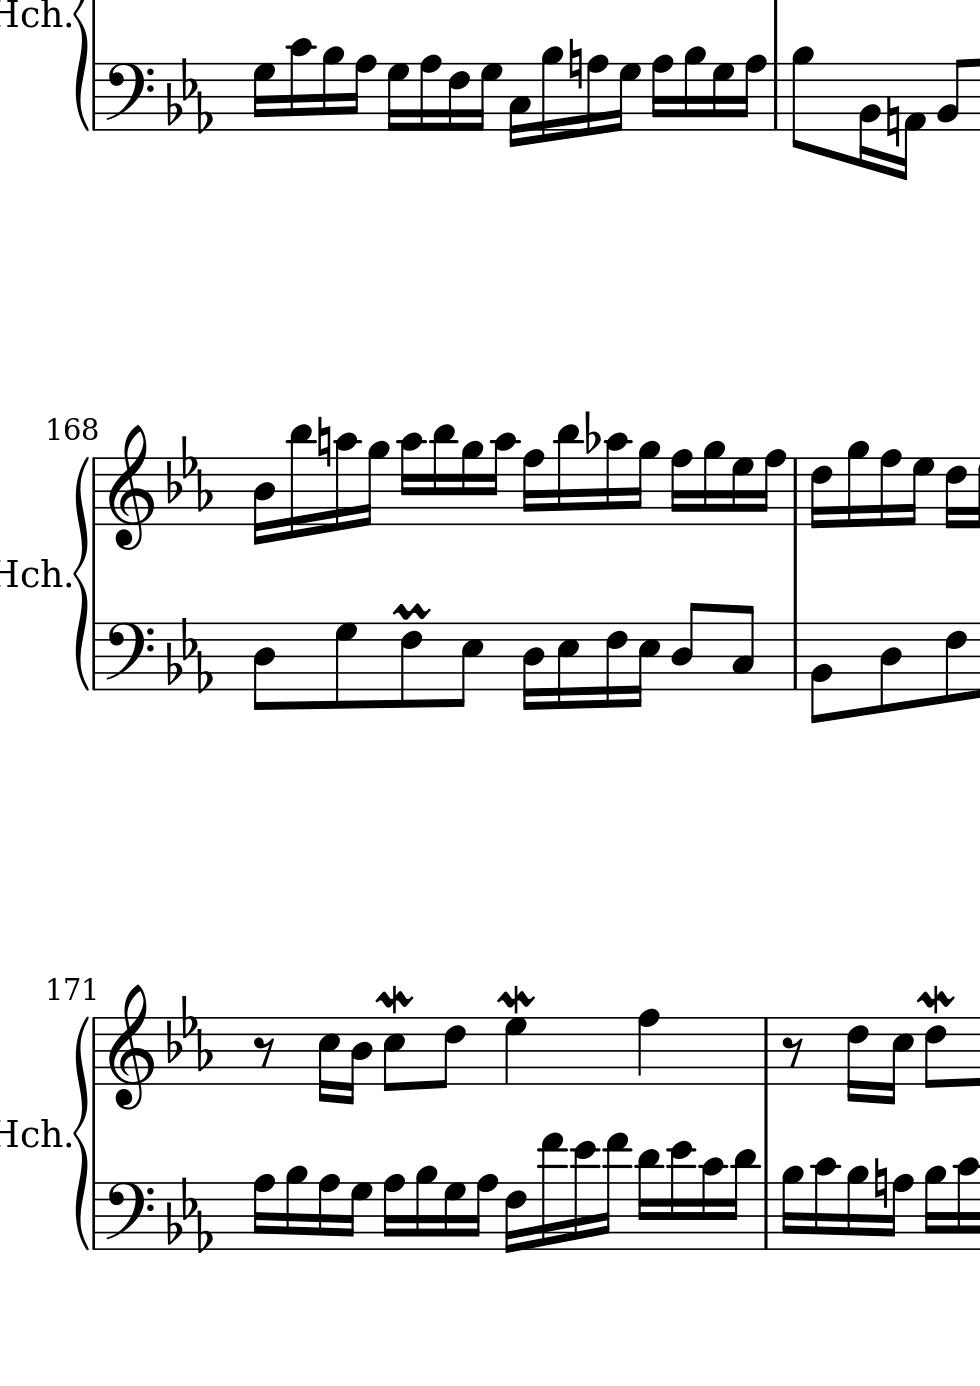1: (46, 975, 62, 1004), (46, 415, 62, 443), (82, 975, 97, 1004)
16_1: (897, 62, 926, 183)
16_10: (487, 431, 519, 526), (332, 431, 360, 532), (397, 431, 425, 526), (602, 432, 631, 527), (287, 37, 314, 131), (699, 1157, 725, 1251), (812, 1156, 838, 1252), (953, 1156, 979, 1252)
16_11: (286, 423, 314, 541), (727, 1147, 756, 1255), (635, 1147, 662, 1253), (428, 422, 455, 527), (554, 422, 580, 527)
16_12: (570, 1140, 598, 1253), (667, 1139, 694, 1250)
16_13: (598, 1133, 630, 1252), (537, 1131, 565, 1250)
16_2: (857, 63, 882, 171)
16_3: (507, 62, 531, 148)
16_4: (344, 1016, 372, 1106), (520, 620, 544, 714), (251, 456, 275, 546)
16_5: (883, 1015, 914, 1105), (630, 621, 661, 709), (554, 620, 580, 710), (316, 1015, 339, 1103)
16_6: (603, 619, 627, 710), (845, 1014, 869, 1105), (943, 455, 968, 531), (503, 1181, 527, 1253), (808, 455, 832, 530), (447, 62, 471, 131)
16_7: (904, 456, 934, 528), (473, 62, 504, 133), (342, 1180, 372, 1251), (611, 62, 641, 133), (729, 455, 754, 528), (385, 62, 409, 133), (251, 59, 275, 133), (710, 62, 732, 133), (441, 1181, 463, 1251)
16_8: (735, 53, 767, 131), (882, 1173, 913, 1252), (346, 54, 377, 131), (757, 448, 787, 527), (469, 1173, 497, 1251), (380, 1173, 405, 1251), (877, 448, 902, 529), (521, 448, 545, 527), (668, 448, 693, 527), (417, 53, 441, 131), (250, 1173, 275, 1251), (315, 1173, 339, 1251), (649, 53, 672, 133), (585, 53, 608, 136)
16_9: (360, 440, 390, 529), (631, 440, 660, 528), (539, 45, 563, 144), (700, 438, 727, 527), (413, 1164, 438, 1252), (459, 440, 485, 526), (844, 439, 869, 528), (681, 45, 705, 133), (283, 1164, 308, 1252), (922, 1164, 946, 1252), (778, 1165, 803, 1252), (320, 45, 344, 131), (844, 1164, 867, 1252)
4_7: (503, 1016, 528, 1086)
4_8: (635, 1007, 660, 1086)
6: (62, 415, 80, 443)
7: (63, 975, 80, 1003)
8: (81, 415, 99, 442)
8_2: (808, 620, 834, 724), (937, 57, 966, 131)
8_3: (730, 606, 756, 694)
8_4: (671, 601, 703, 692), (877, 620, 903, 715), (250, 621, 276, 713)
8_5: (449, 620, 484, 710), (382, 1016, 405, 1093)
8_6: (432, 1015, 466, 1090), (397, 621, 423, 710), (942, 620, 967, 704), (923, 1016, 946, 1091)
8_7: (331, 620, 358, 712)
8_9: (789, 43, 813, 151)
Brace: (70, 1014, 91, 1246), (74, 454, 90, 688)
E_F: (164, 433, 214, 513), (164, 994, 215, 1072), (164, 57, 214, 134), (163, 617, 213, 694), (163, 1177, 213, 1252)
Fclef: (102, 620, 154, 692), (102, 1180, 154, 1252), (102, 62, 154, 131)
Flat: (582, 409, 600, 456)
Gclef: (105, 981, 155, 1115), (106, 423, 154, 554)
Mordent: (915, 983, 955, 1015), (496, 984, 535, 1015), (375, 984, 413, 1015)
Natural: (871, 1154, 888, 1209), (883, 94, 900, 148), (566, 37, 583, 90), (316, 415, 331, 468)
Rests8: (252, 1035, 276, 1069), (781, 1035, 804, 1069)
ShortTrill: (391, 601, 431, 622)
Single_barline: (756, 1018, 774, 1085), (757, 1182, 774, 1250), (767, 62, 783, 130), (787, 457, 803, 526), (787, 622, 803, 689), (88, 63, 102, 131), (88, 1183, 102, 1250), (88, 458, 101, 525), (88, 1018, 101, 1085), (89, 622, 101, 690)
